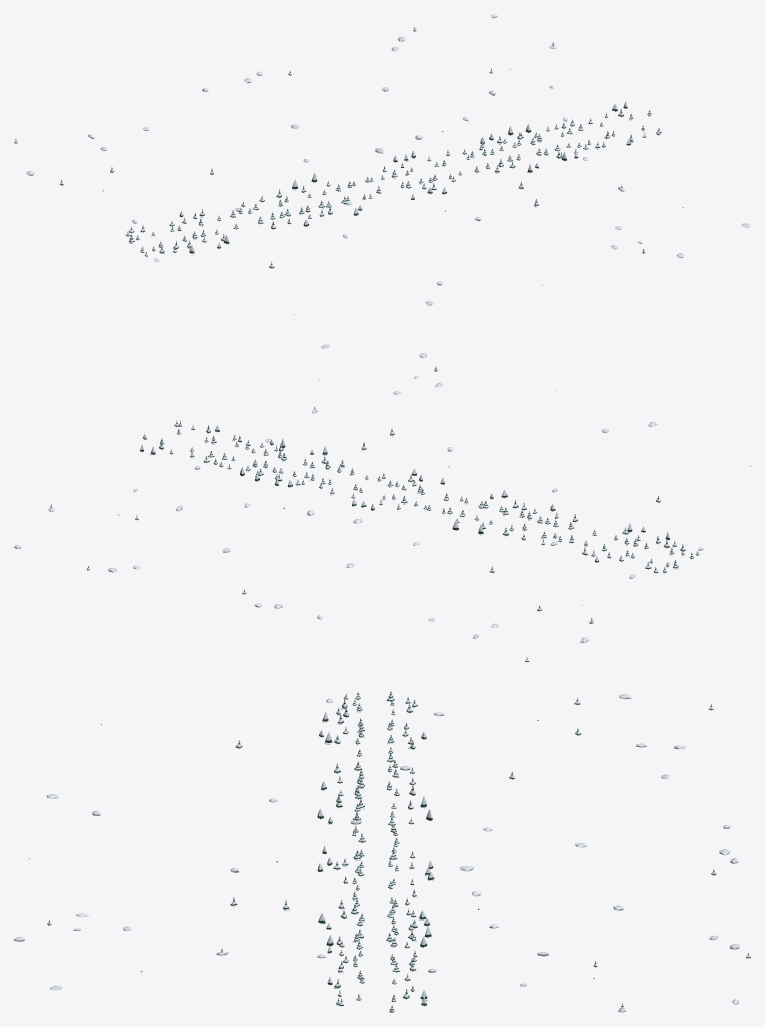
The model's file is Fill_-1_-2.fbx.
The picture shows the model from 3 angles, top to bottom: view 1: azimuth 30°, elevation 25°; view 2: azimuth 150°, elevation 25°; view 3: azimuth 270°, elevation 25°; orthographic projection. The views are drawn at different scales.
Visible parts, largest first — view 1: Fill_-1_-2; view 2: Fill_-1_-2; view 3: Fill_-1_-2.
Boxes of the visible parts, box(x1,y1,x2,y2) form: Fill_-1_-2: box(14, 14, 750, 314); Fill_-1_-2: box(14, 344, 750, 662); Fill_-1_-2: box(14, 691, 750, 1012).
Size of the model in its own units: 59163 by 1188 by 58029.
